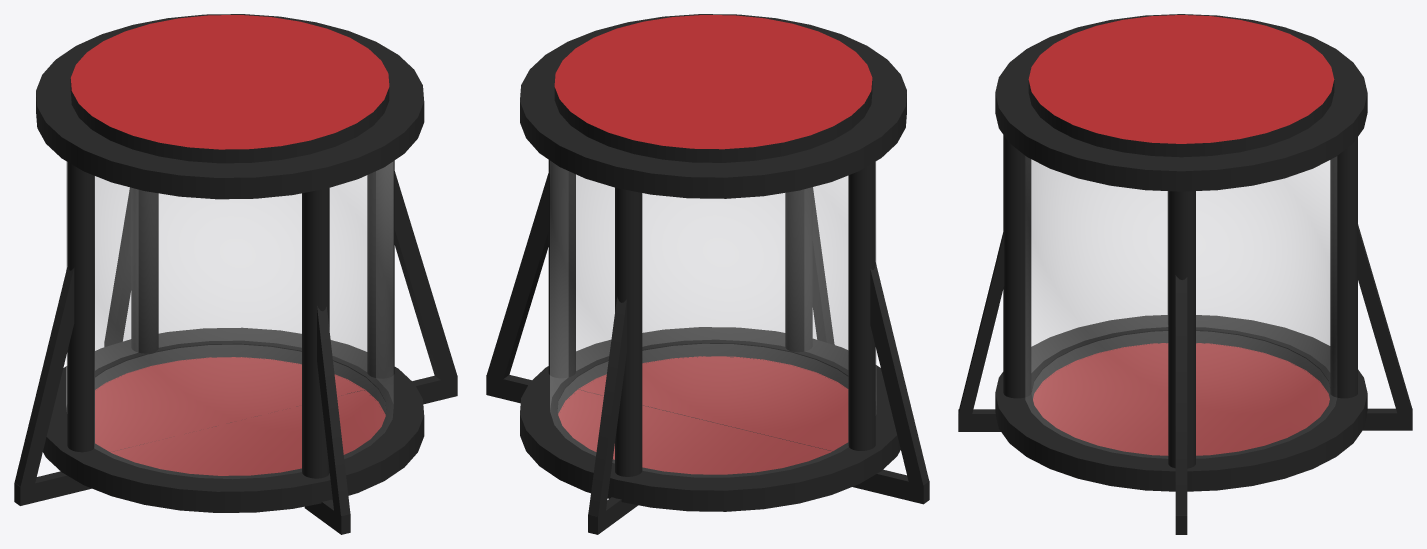
File: sostenedor de cubo.fbx
The picture shows the model from 3 angles, left to right: view 1: azimuth 30°, elevation 25°; view 2: azimuth 150°, elevation 25°; view 3: azimuth 270°, elevation 25°; orthographic projection. The views are drawn at different scales.
Parts seen in each view (by area): view 1: Cylinder.011, Cylinder.001, Cylinder.006, Cylinder, Cylinder.003, Cylinder.009; view 2: Cylinder.011, Cylinder.001, Cylinder.006, Cylinder, Cylinder.009, Cylinder.003; view 3: Cylinder.011, Cylinder.001, Cylinder.006, Cylinder, Cylinder.009, Cylinder.003.
Boxes of the visible parts, x1,y1,x2,y2 form: Cylinder.011: [66, 161, 393, 478]; Cylinder.001: [36, 14, 424, 199]; Cylinder.006: [14, 160, 457, 534]; Cylinder: [43, 327, 424, 512]; Cylinder.003: [95, 357, 364, 451]; Cylinder.009: [110, 390, 385, 475]; Cylinder.011: [550, 161, 876, 476]; Cylinder.001: [520, 14, 906, 198]; Cylinder.006: [486, 160, 929, 534]; Cylinder: [520, 327, 900, 511]; Cylinder.009: [578, 356, 848, 451]; Cylinder.003: [558, 389, 831, 474]; Cylinder.011: [1026, 157, 1336, 458]; Cylinder.001: [995, 14, 1367, 191]; Cylinder.006: [958, 135, 1412, 534]; Cylinder: [995, 315, 1367, 491]; Cylinder.009: [1033, 343, 1168, 455]; Cylinder.003: [1196, 343, 1329, 455].
Size of the model in its own units: 308 by 248 by 289.
